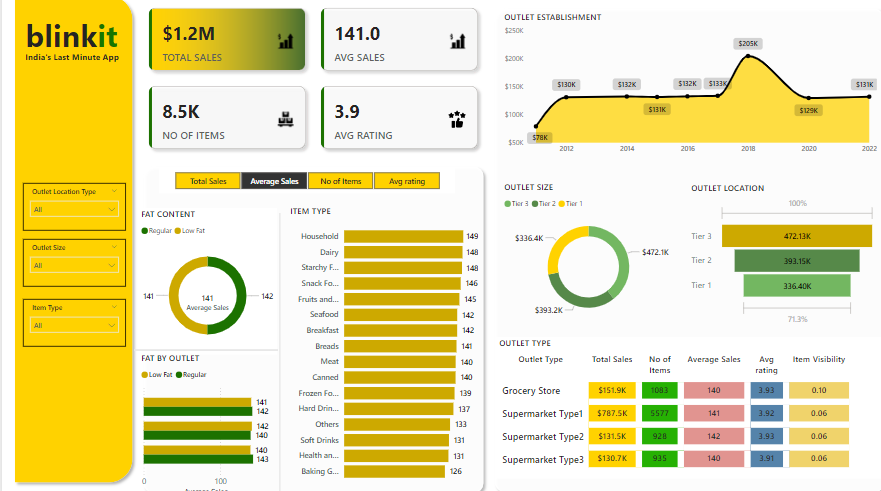

This screenshot's page, from the dashboard's own definition file:
{"tool":"powerbi","page":{"name":"Page 1","canvas":[1398,800],"ordinal":0},"visuals":[{"type":"shape","box":[10.3,0,203.4,784.5],"z":0},{"type":"textbox","box":[25.7,33,168.8,115.6],"z":1000},{"type":"textbox","box":[14.7,91.7,192.6,33],"z":2000},{"type":"cardVisual","fields":{"Data":["BlinkIT Grocery Data.Total Sales","BlinkIT Grocery Data.Average Sales","BlinkIT Grocery Data.No of Items","BlinkIT Grocery Data.Avg rating"]},"box":[214.3,11.4,552.9,257.1],"z":3000},{"type":"shape","box":[214.3,268.6,552.9,531.4],"z":4000},{"type":"donutChart","title":"FAT CONTENT","fields":{"Y":["BlinkIT Grocery Data.Average Sales","BlinkIT Grocery Data.Average Sales"],"Category":["BlinkIT Grocery Data.Item Fat Content"]},"box":[214.5,343.4,219.3,231.3],"z":5000},{"type":"slicer","fields":{"Values":["mETRICS.mETRICS"]},"box":[247.1,280,465.7,40],"z":6000},{"type":"cardVisual","fields":{"Data":["BlinkIT Grocery Data.Average Sales"]},"box":[266.3,459,115.7,56.6],"z":7000},{"type":"clusteredBarChart","title":"FAT BY OUTLET","fields":{"Y":["BlinkIT Grocery Data.Average Sales"],"Category":["BlinkIT Grocery Data.Outlet Location Type"],"Series":["BlinkIT Grocery Data.Item Fat Content"]},"box":[214.5,569.9,220.5,230.1],"z":8000},{"type":"shape","box":[207.2,561.4,226.5,9.6],"z":9000},{"type":"shape","box":[208.4,561.4,226.5,9.6],"z":10000},{"type":"shape","box":[160,350.8,553.8,446.2],"z":11000},{"type":"barChart","title":"ITEM TYPE","fields":{"Y":["BlinkIT Grocery Data.Average Sales"],"Category":["BlinkIT Grocery Data.Item Type"]},"box":[449.2,338.5,306.2,444.6],"z":12000},{"type":"shape","box":[766.2,20,632.3,780],"z":13000},{"type":"lineChart","title":"OUTLET ESTABLISHMENT","fields":{"Y":["BlinkIT Grocery Data.Total Sales"],"Category":["BlinkIT Grocery Data.Outlet Establishment Year"]},"box":[786.2,32.3,596.9,235.4],"z":14000},{"type":"donutChart","title":"OUTLET SIZE","fields":{"Y":["BlinkIT Grocery Data.Total Sales"],"Category":["BlinkIT Grocery Data.Outlet Location Type"]},"box":[786.2,300,275.4,226.2],"z":15000},{"type":"funnel","title":"OUTLET LOCATION","fields":{"Y":["Sum(BlinkIT Grocery Data.Sales)"],"Category":["BlinkIT Grocery Data.Outlet Location Type"]},"box":[1080,303.1,300,230.8],"z":16000},{"type":"pivotTable","title":"OUTLET TYPE","fields":{"Values":["BlinkIT Grocery Data.Total Sales","BlinkIT Grocery Data.No of Items","BlinkIT Grocery Data.Average Sales","BlinkIT Grocery Data.Avg rating","Avg(BlinkIT Grocery Data.Item Visibility)"],"Rows":["BlinkIT Grocery Data.Outlet Type"]},"box":[778.5,546.2,607.7,223.1],"z":17000},{"type":"slicer","fields":{"Values":["BlinkIT Grocery Data.Outlet Location Type"]},"box":[33.8,304.6,161.5,75.4],"z":18000},{"type":"slicer","fields":{"Values":["BlinkIT Grocery Data.Outlet Size"]},"box":[33.8,392.3,161.5,75.4],"z":19000},{"type":"slicer","fields":{"Values":["BlinkIT Grocery Data.Item Type"]},"box":[33.8,486.2,161.5,75.4],"z":20000}]}

Visuals, with their boxes in screenshot pixels (x1, y1, x2, y2), scaled from the page's 1398x800 canvas onto the 881x491 screenshot:
shape: left=6, top=0, right=135, bottom=481
textbox: left=16, top=20, right=123, bottom=91
textbox: left=9, top=56, right=131, bottom=77
cardVisual - BlinkIT Grocery Data.Total Sales x BlinkIT Grocery Data.Average Sales: left=135, top=7, right=483, bottom=165
shape: left=135, top=165, right=483, bottom=490
"FAT CONTENT" donutChart: left=135, top=211, right=273, bottom=353
slicer - mETRICS.mETRICS: left=156, top=172, right=449, bottom=196
cardVisual - BlinkIT Grocery Data.Average Sales: left=168, top=282, right=241, bottom=316
"FAT BY OUTLET" clusteredBarChart: left=135, top=350, right=274, bottom=490
shape: left=131, top=345, right=273, bottom=350
shape: left=131, top=345, right=274, bottom=350
shape: left=101, top=215, right=450, bottom=489
"ITEM TYPE" barChart: left=283, top=208, right=476, bottom=481
shape: left=483, top=12, right=880, bottom=490
"OUTLET ESTABLISHMENT" lineChart: left=495, top=20, right=872, bottom=164
"OUTLET SIZE" donutChart: left=495, top=184, right=669, bottom=323
"OUTLET LOCATION" funnel: left=681, top=186, right=870, bottom=328
"OUTLET TYPE" pivotTable: left=491, top=335, right=874, bottom=472
slicer - BlinkIT Grocery Data.Outlet Location Type: left=21, top=187, right=123, bottom=233
slicer - BlinkIT Grocery Data.Outlet Size: left=21, top=241, right=123, bottom=287
slicer - BlinkIT Grocery Data.Item Type: left=21, top=298, right=123, bottom=345
